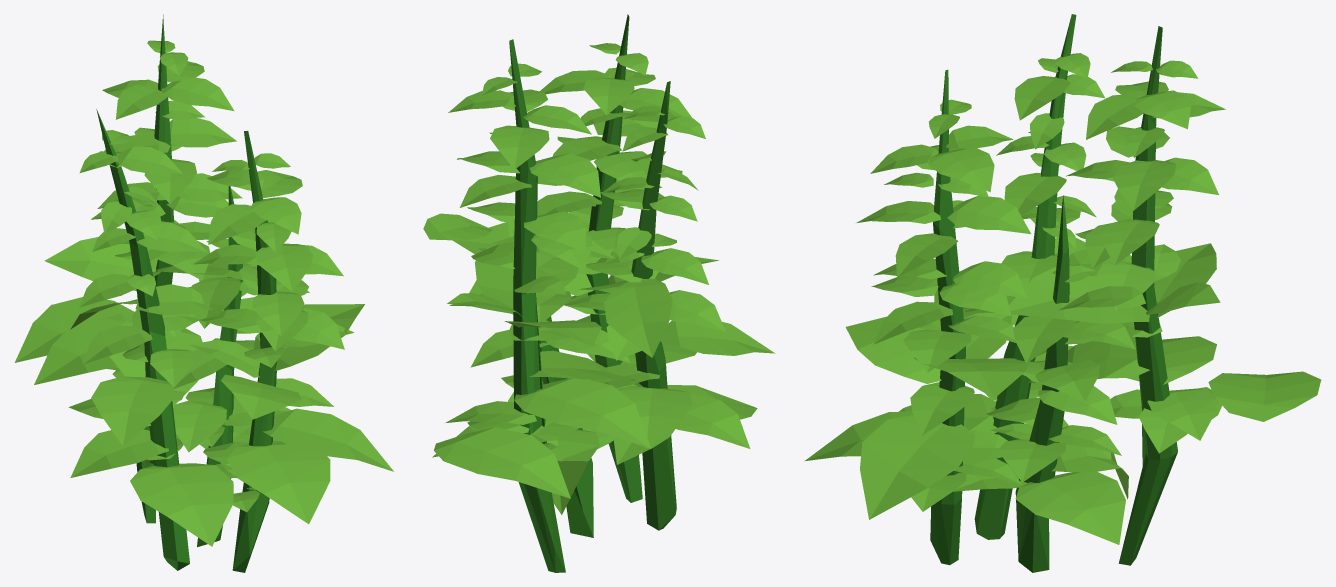
Rendered from potato_plant3.fbx.
3 renders of one model, left to right at view 1: azimuth 30°, elevation 25°; view 2: azimuth 150°, elevation 25°; view 3: azimuth 270°, elevation 25°, orthographic. The views are drawn at different scales.
Visible parts, largest first — view 1: potato.001; view 2: potato.001; view 3: potato.001.
Boxes of the visible parts, box(x1,y1,x2,y2) form: potato.001: box(14, 14, 393, 572); potato.001: box(423, 14, 775, 572); potato.001: box(804, 14, 1321, 572).
Bounding box in the file's own units: 171 × 282 × 240.
